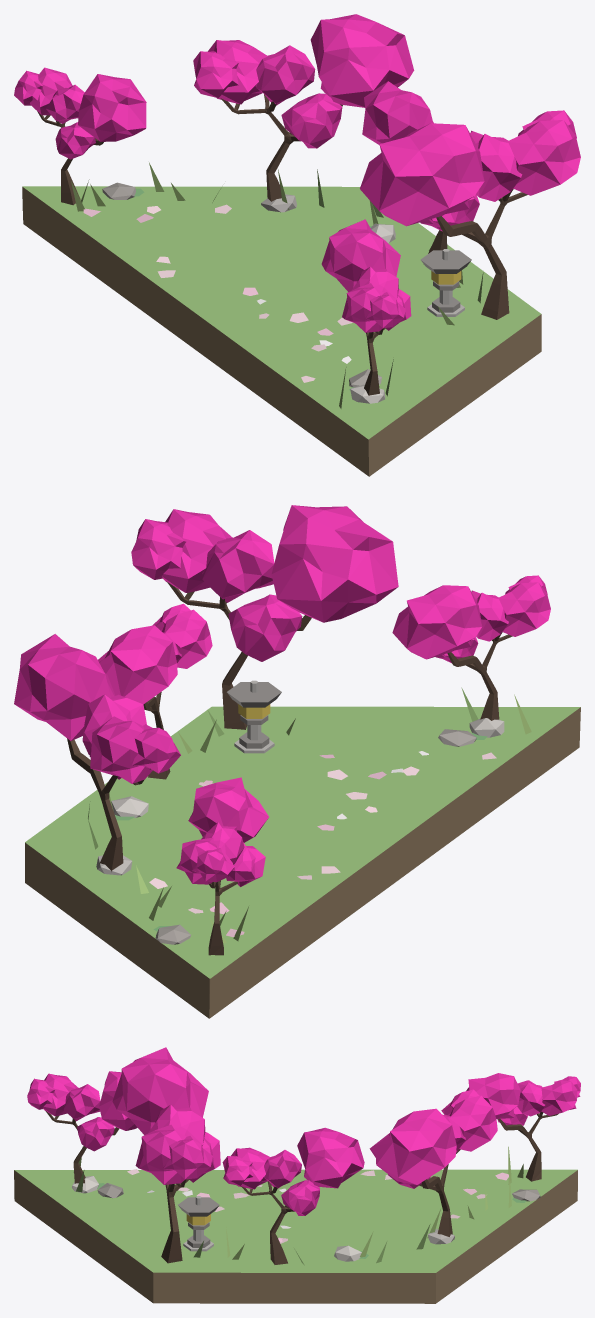
Rendered from sakura_half_sprint3.glb.
The picture shows the model from 3 angles, top to bottom: view 1: azimuth 30°, elevation 25°; view 2: azimuth 150°, elevation 25°; view 3: azimuth 270°, elevation 25°; orthographic projection. The views are drawn at different scales.
Visible parts, largest first — view 1: HexBase, Icosphere.010, Icosphere.020, Icosphere.012, Icosphere.015, Icosphere.001, Icosphere.031, Cube.002, Icosphere.023, Icosphere.024, Icosphere.013, Icosphere.022 (+13 smaller); view 2: HexBase, Icosphere.010, Icosphere.020, Icosphere.001, Icosphere.031, Icosphere.013, Icosphere.014, Icosphere.015, Icosphere.012, Icosphere.022, Icosphere.011, Icosphere.003 (+13 smaller); view 3: HexBase, Icosphere.010, Icosphere.020, Icosphere.031, Icosphere.022, Icosphere.012, Icosphere.015, Icosphere.011, Icosphere.013, Icosphere.017, Icosphere.001, Icosphere.034 (+16 smaller).
Part boxes in pixels (x1,y1,x2,y2): HexBase: (22, 186, 541, 476); Icosphere.010: (360, 123, 484, 226); Icosphere.020: (310, 14, 414, 107); Icosphere.012: (506, 120, 580, 195); Icosphere.015: (78, 74, 146, 141); Icosphere.001: (321, 219, 400, 291); Icosphere.031: (362, 81, 433, 144); Cube.002: (436, 188, 527, 319); Icosphere.023: (255, 45, 315, 105); Icosphere.024: (281, 93, 342, 148); Icosphere.013: (470, 130, 522, 201); Icosphere.022: (208, 40, 267, 104); HexBase: (25, 706, 580, 1018); Icosphere.010: (271, 505, 398, 622); Icosphere.020: (14, 634, 115, 740); Icosphere.001: (392, 585, 482, 659); Icosphere.031: (98, 625, 177, 704); Icosphere.013: (202, 530, 274, 602); Icosphere.014: (228, 594, 302, 661); Icosphere.015: (188, 777, 268, 842); Icosphere.012: (162, 509, 232, 592); Icosphere.022: (90, 716, 152, 783); Icosphere.011: (131, 519, 185, 579); Icosphere.003: (497, 582, 550, 636); HexBase: (14, 1169, 577, 1303); Icosphere.010: (112, 1047, 208, 1134); Icosphere.020: (369, 1108, 456, 1184); Icosphere.031: (297, 1127, 364, 1188); Icosphere.022: (448, 1095, 497, 1151); Icosphere.012: (135, 1124, 186, 1184); Icosphere.015: (466, 1073, 520, 1118); Icosphere.011: (163, 1136, 212, 1179); Icosphere.013: (148, 1104, 205, 1145); Icosphere.017: (541, 1080, 577, 1115); Icosphere.001: (99, 1071, 137, 1130); Icosphere.034: (264, 1150, 301, 1188).
Bounding box in the file's own units: 2.67 × 1.95 × 5.02.
